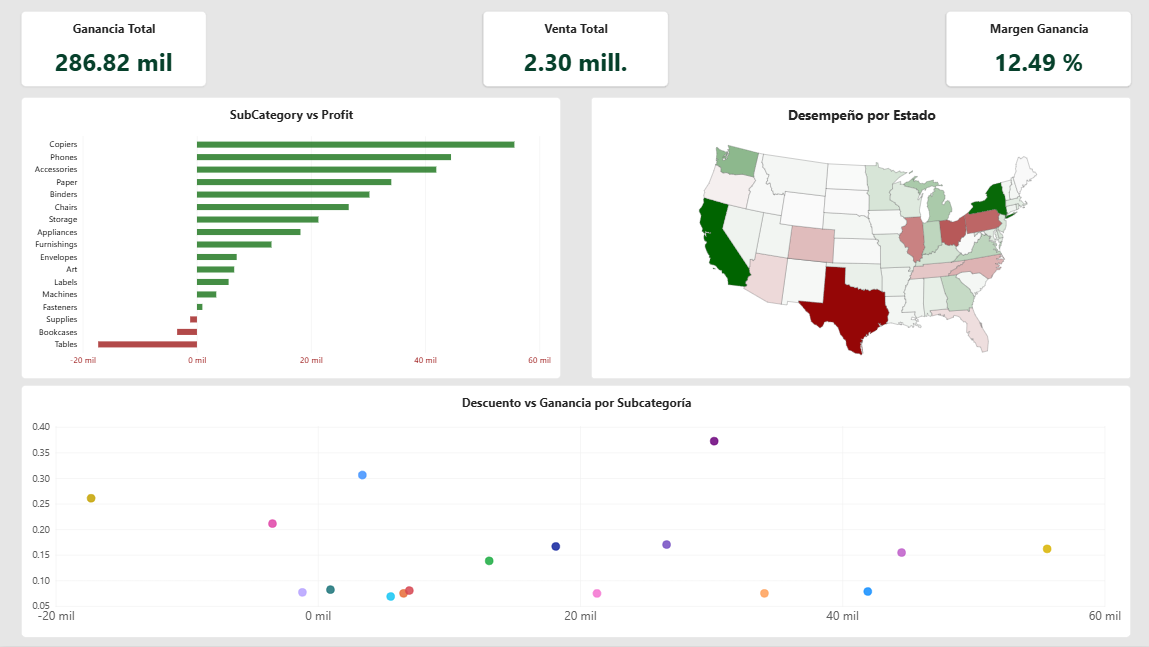

Layout of this report page (visuals, bound fields, positions):
{"tool":"powerbi","page":{"name":"Análisis de Rentabilidad — Superstore","canvas":[1920,1080],"ordinal":0},"visuals":[{"type":"shape","box":[0,0,1920,1080],"z":0},{"type":"barChart","title":"SubCategory vs Profit","fields":{"Category":["Sub_Category.Name_Sub_Category"],"Y":["Sum(Order_Details.Profit)"]},"box":[35,165,900,470],"z":1000},{"type":"shapeMap","title":"Desempeño por Estado","fields":{"Category":["Location.State"],"Value":["Sum(Order_Details.Profit)"]},"box":[985,165,900,470],"z":2000},{"type":"scatterChart","title":"Descuento vs Ganancia por Subcategoría","fields":{"Y":["Order_Details.Promedio_Descuento"],"X":["Sum(Order_Details.Profit)"],"Series":["Sub_Category.Name_Sub_Category"]},"box":[35,645.7,1850,421.4],"z":3000},{"type":"card","title":"Ganancia Total","fields":{"Values":["Order_Details.Ganancia Total"]},"box":[35,21.7,308.6,125.7],"z":4000},{"type":"card","title":"Venta Total","fields":{"Values":["Order_Details.Venta Total"]},"box":[805,21.7,308.6,125.7],"z":6000},{"type":"card","title":"Margen Ganancia","fields":{"Values":["Order_Details.Margen_Ganancia"]},"box":[1576.7,21.7,308.6,125.7],"z":6001}]}

Visuals, with their boxes in screenshot pixels (x1, y1, x2, y2), scaled from the page's 1920x1080 canvas onto the 1149x647 screenshot:
shape: bbox=[0, 0, 1148, 646]
"SubCategory vs Profit" barChart: bbox=[21, 99, 560, 380]
"Desempeño por Estado" shapeMap: bbox=[589, 99, 1128, 380]
"Descuento vs Ganancia por Subcategoría" scatterChart: bbox=[21, 387, 1128, 639]
"Ganancia Total" card: bbox=[21, 13, 206, 88]
"Venta Total" card: bbox=[482, 13, 666, 88]
"Margen Ganancia" card: bbox=[944, 13, 1128, 88]
